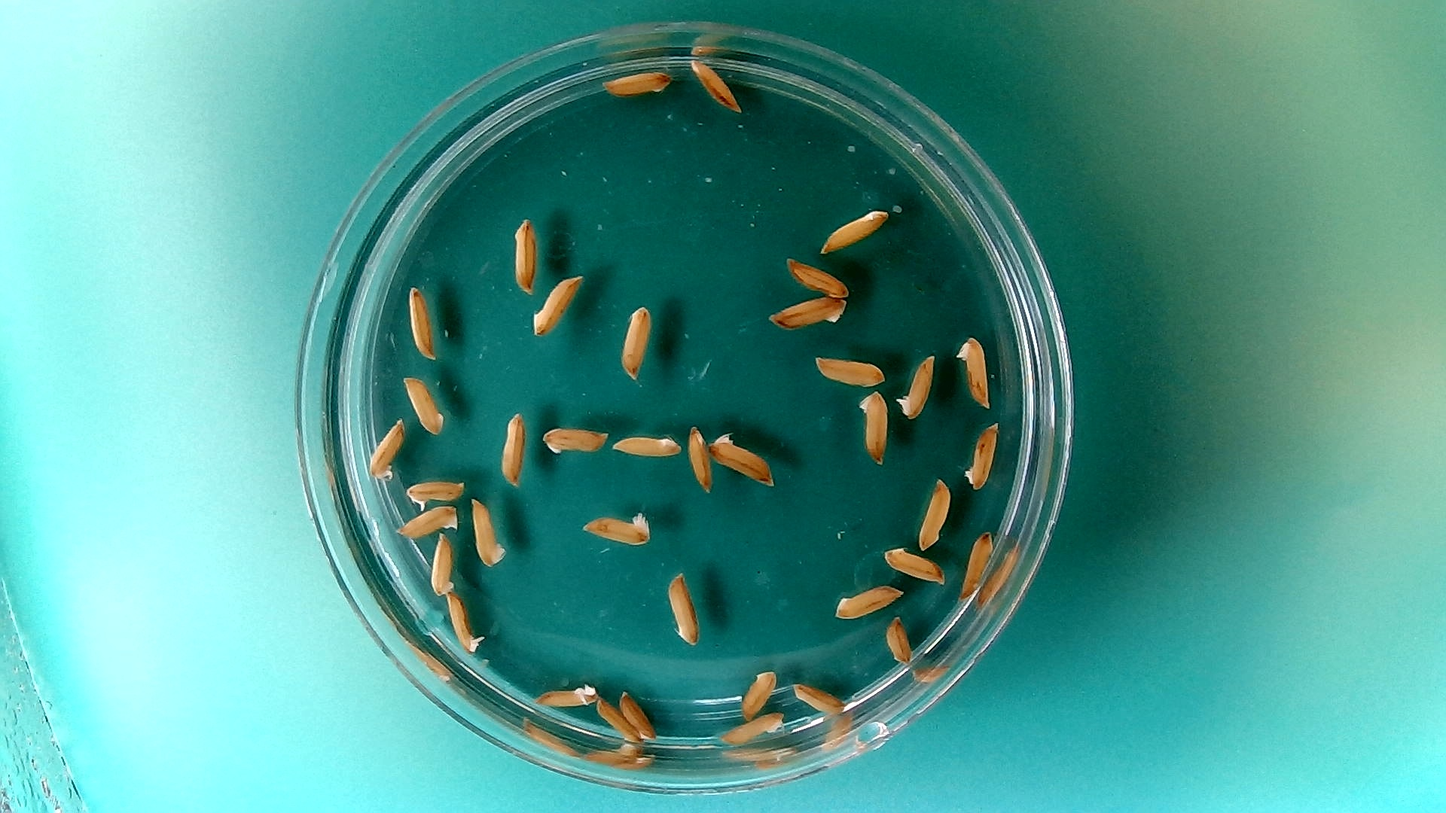no: (706, 429, 777, 489), (529, 271, 585, 340), (819, 205, 892, 254), (685, 54, 742, 114), (828, 580, 906, 622), (663, 568, 703, 647), (766, 293, 850, 330), (400, 372, 447, 437), (578, 507, 654, 547), (364, 415, 407, 485), (470, 495, 509, 571), (617, 300, 653, 382), (715, 707, 788, 747), (915, 475, 953, 551), (957, 527, 996, 601), (961, 419, 1001, 491), (785, 256, 850, 299), (496, 406, 529, 490), (404, 280, 438, 361), (880, 544, 947, 585), (854, 389, 889, 466), (595, 695, 645, 748), (508, 212, 539, 297), (393, 502, 462, 540), (812, 353, 886, 388), (541, 422, 611, 457), (600, 67, 673, 99), (789, 678, 847, 718), (609, 428, 683, 459), (737, 666, 779, 720), (621, 684, 661, 739), (686, 422, 714, 495), (429, 529, 456, 597), (882, 612, 914, 668)
yes: (446, 590, 492, 658), (953, 333, 993, 410), (895, 351, 937, 421), (403, 475, 467, 510), (530, 679, 599, 710)
